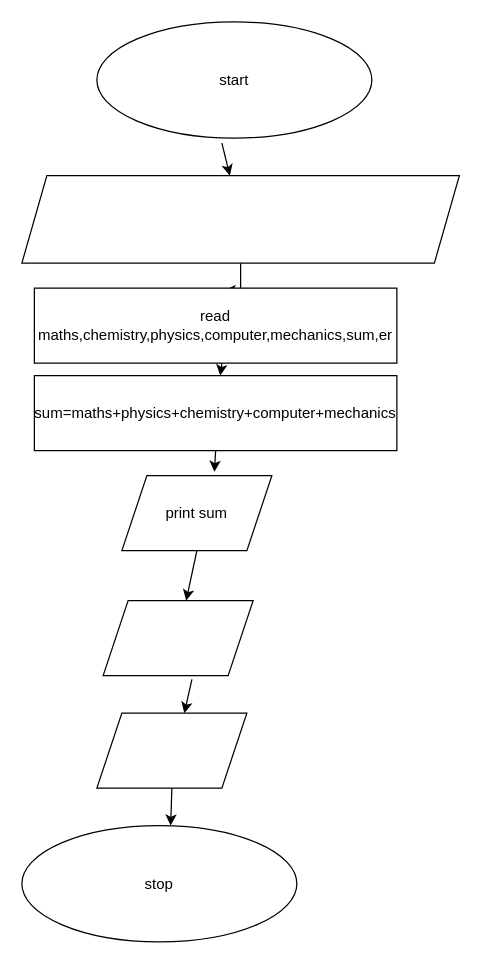
The diagram is 481 pixels wide and 964 high, and some of its shapes have lost their labels. The centre of each missing label's shape, as x and y in pixels:
"declaring variables math,physics,chemistry,computer,mechanics,sum,per" goes at point (240, 218).
"per= (sum/500)*100" goes at point (177, 637).
"print per" goes at point (171, 750).
